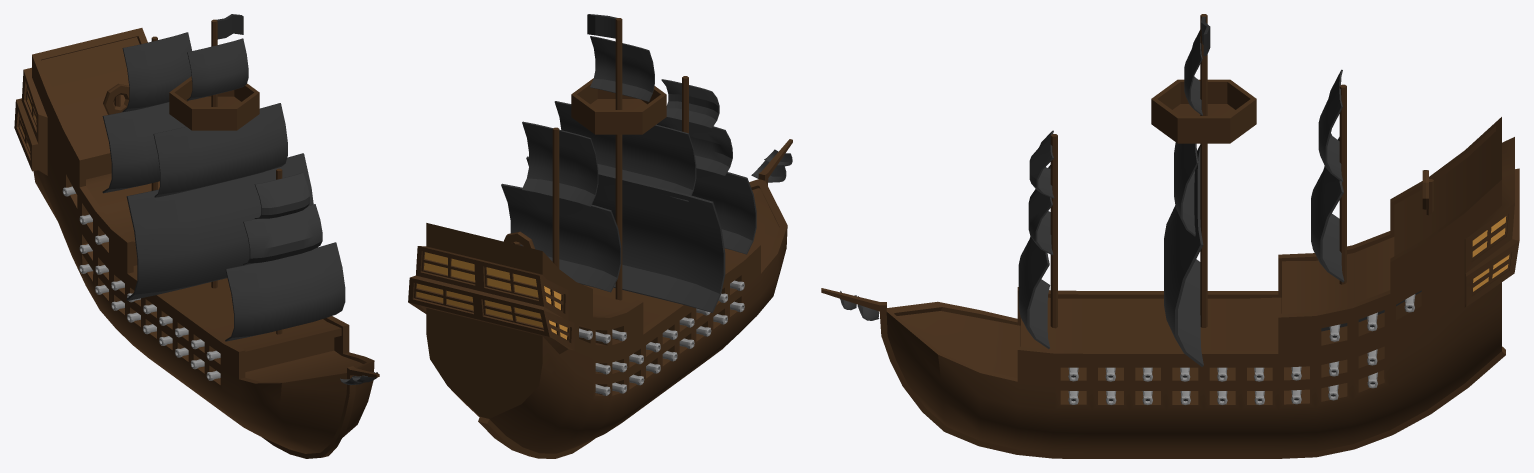
File: ShipPlaceholder.fbx
3 views of the same model, side by side, from view 1: azimuth 30°, elevation 25°; view 2: azimuth 150°, elevation 25°; view 3: azimuth 270°, elevation 25° (orthographic). The views are drawn at different scales.
Parts seen in each view (by area): view 1: Cube; view 2: Cube; view 3: Cube.
Part boxes in pixels (box(x1,y1,x2,y2)): Cube: box(14, 14, 379, 458); Cube: box(408, 14, 792, 458); Cube: box(821, 14, 1519, 458).
Size of the model in its own units: 321 by 654 by 937.
